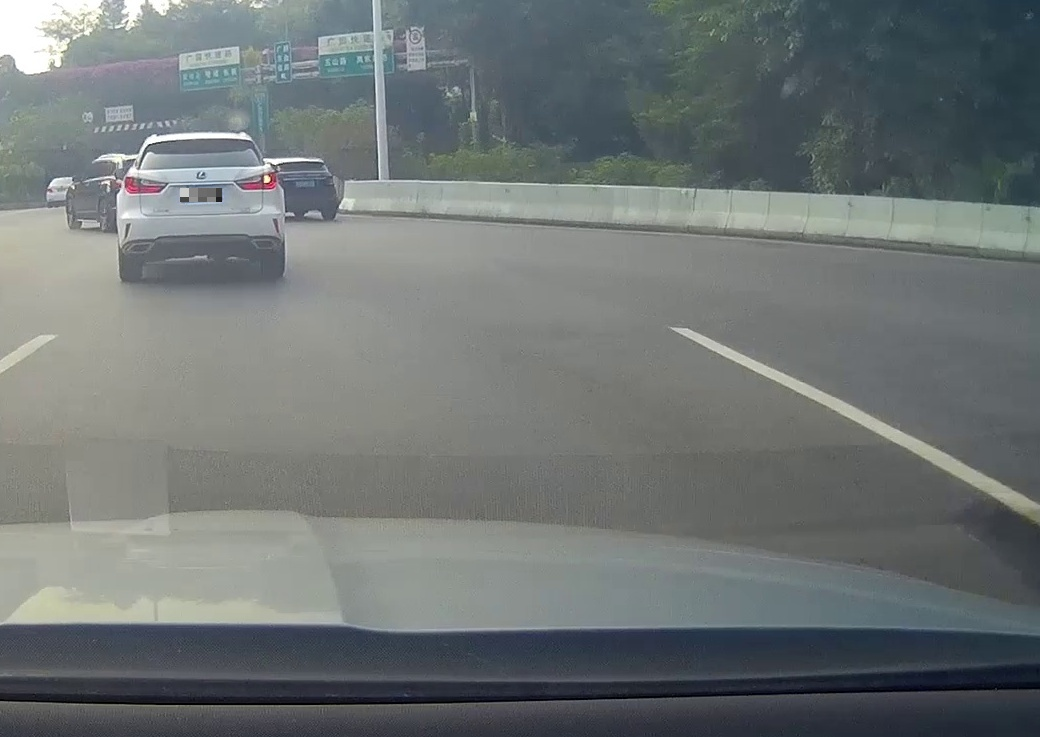L_light: (124, 176, 169, 194)
R_light: (233, 170, 277, 190)
T_light: (190, 136, 209, 142)
day-right: (116, 131, 284, 281)
plate_1: (180, 188, 222, 202)
